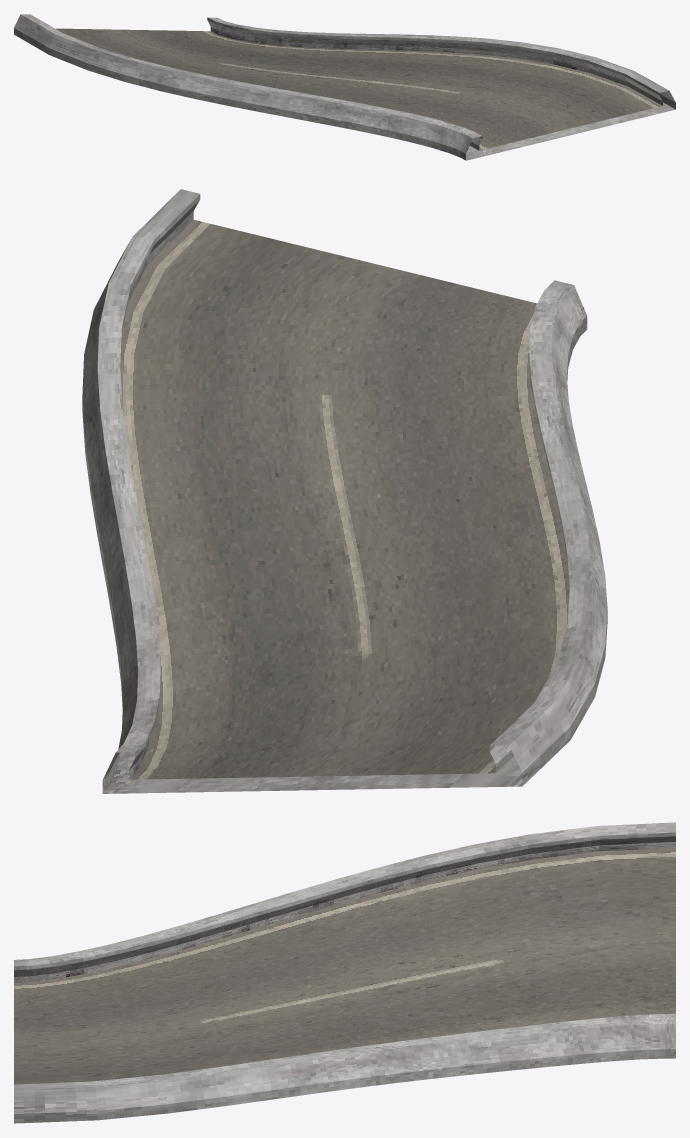
File: road-Chicane-Flat-HalfBankedRight-Down1-Left1-Size2.glb
The picture shows the model from 3 angles, top to bottom: view 1: azimuth 30°, elevation 25°; view 2: azimuth 150°, elevation 25°; view 3: azimuth 270°, elevation 25°; orthographic projection. The views are drawn at different scales.
Visible parts, largest first — view 1: road-Chicane-Flat-HalfBankedRight-Down1-Left1-Size2; view 2: road-Chicane-Flat-HalfBankedRight-Down1-Left1-Size2; view 3: road-Chicane-Flat-HalfBankedRight-Down1-Left1-Size2.
Boxes of the visible parts, bbox=[...] form: road-Chicane-Flat-HalfBankedRight-Down1-Left1-Size2: bbox=[14, 14, 675, 160]; road-Chicane-Flat-HalfBankedRight-Down1-Left1-Size2: bbox=[82, 189, 607, 793]; road-Chicane-Flat-HalfBankedRight-Down1-Left1-Size2: bbox=[14, 822, 675, 1123].
Bounding box in the file's own units: 2 × 0.3438 × 2.
2 materials, 2 textured.
